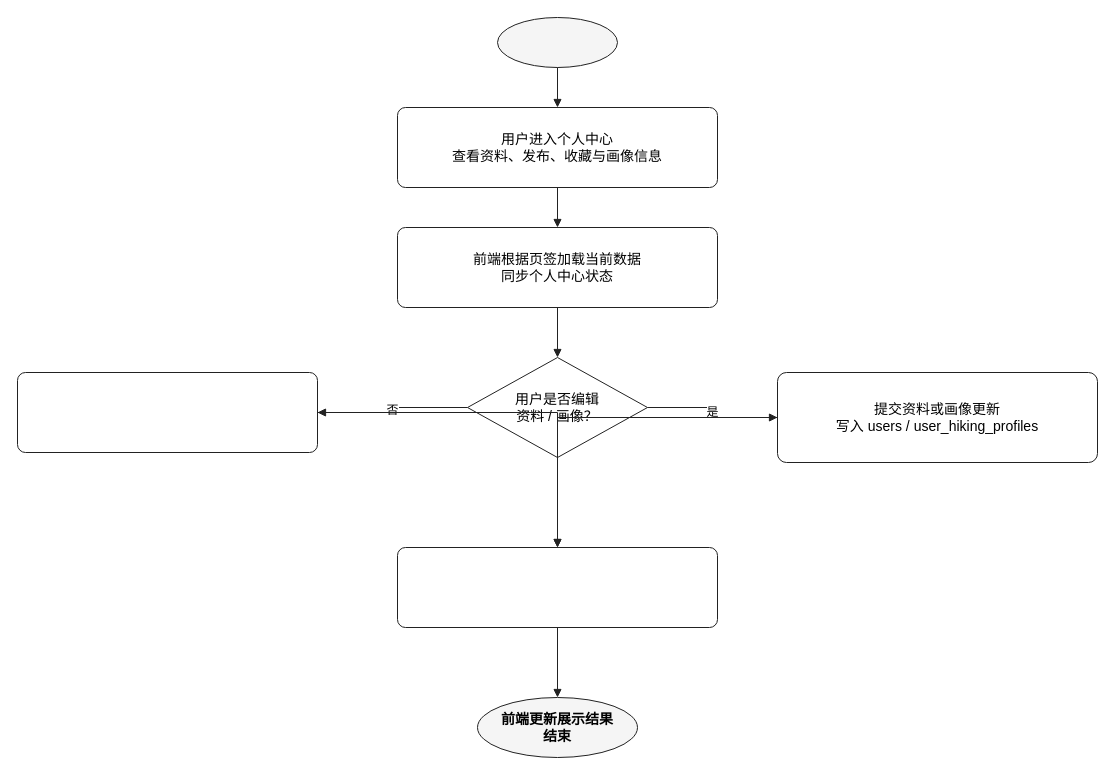
This 1115x775 diagram has some shape labels left out. The box of each missing label's shape, as (x1, y1, x2, y2) in pixels:
后端校验身份与字段合法性 刷新个人中心聚合数据: (396, 546, 718, 628)
开始: (496, 16, 618, 68)
请求用户资料与关系数据 返回发布路线与收藏列表: (16, 372, 318, 452)
